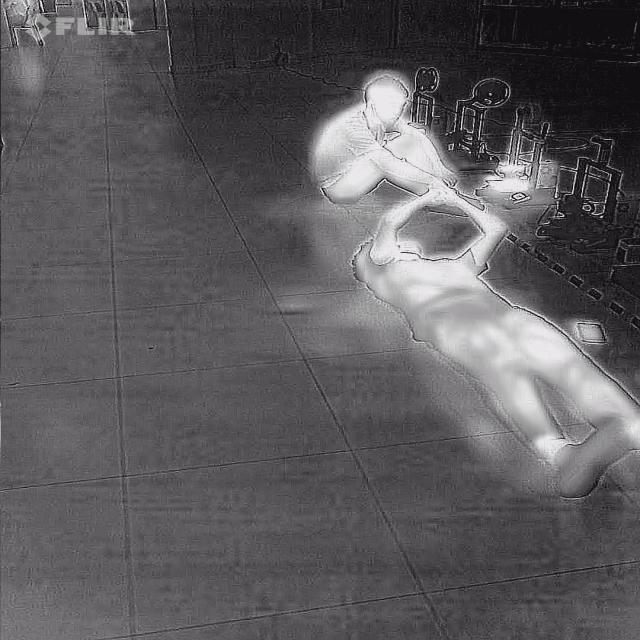Victim: (340, 168, 640, 510), (306, 66, 496, 217)
